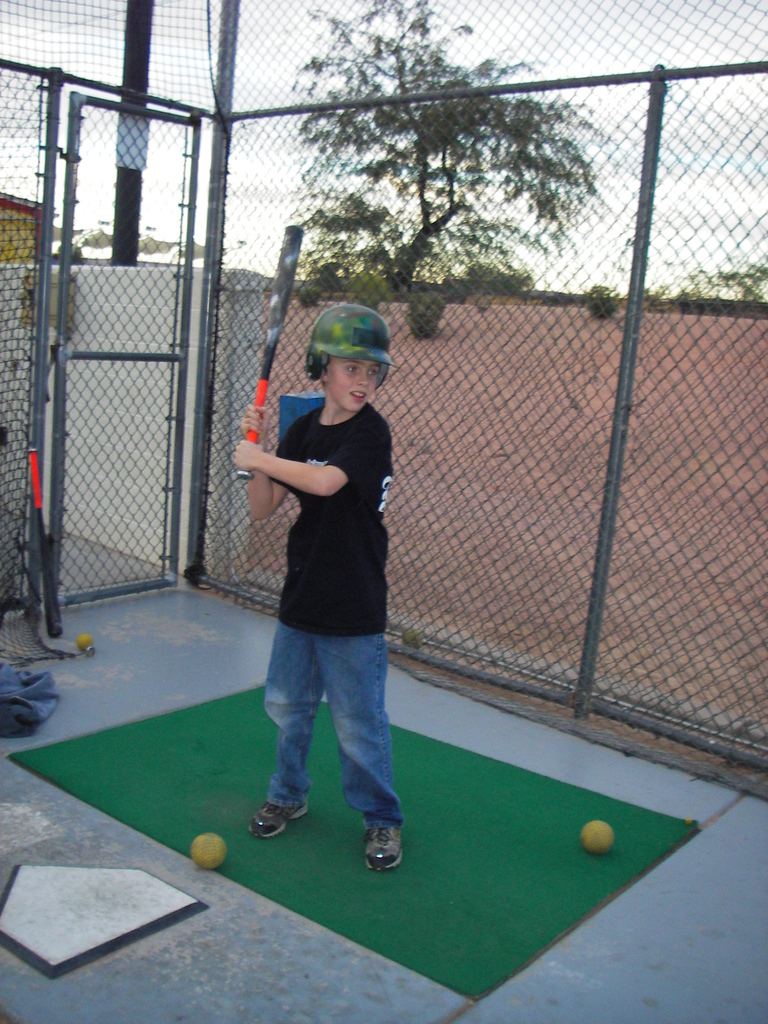Person: (230, 304, 403, 869)
